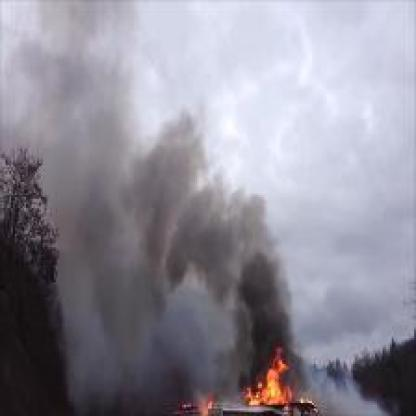fire: (235, 347, 302, 411)
smoke: (4, 82, 298, 344)
